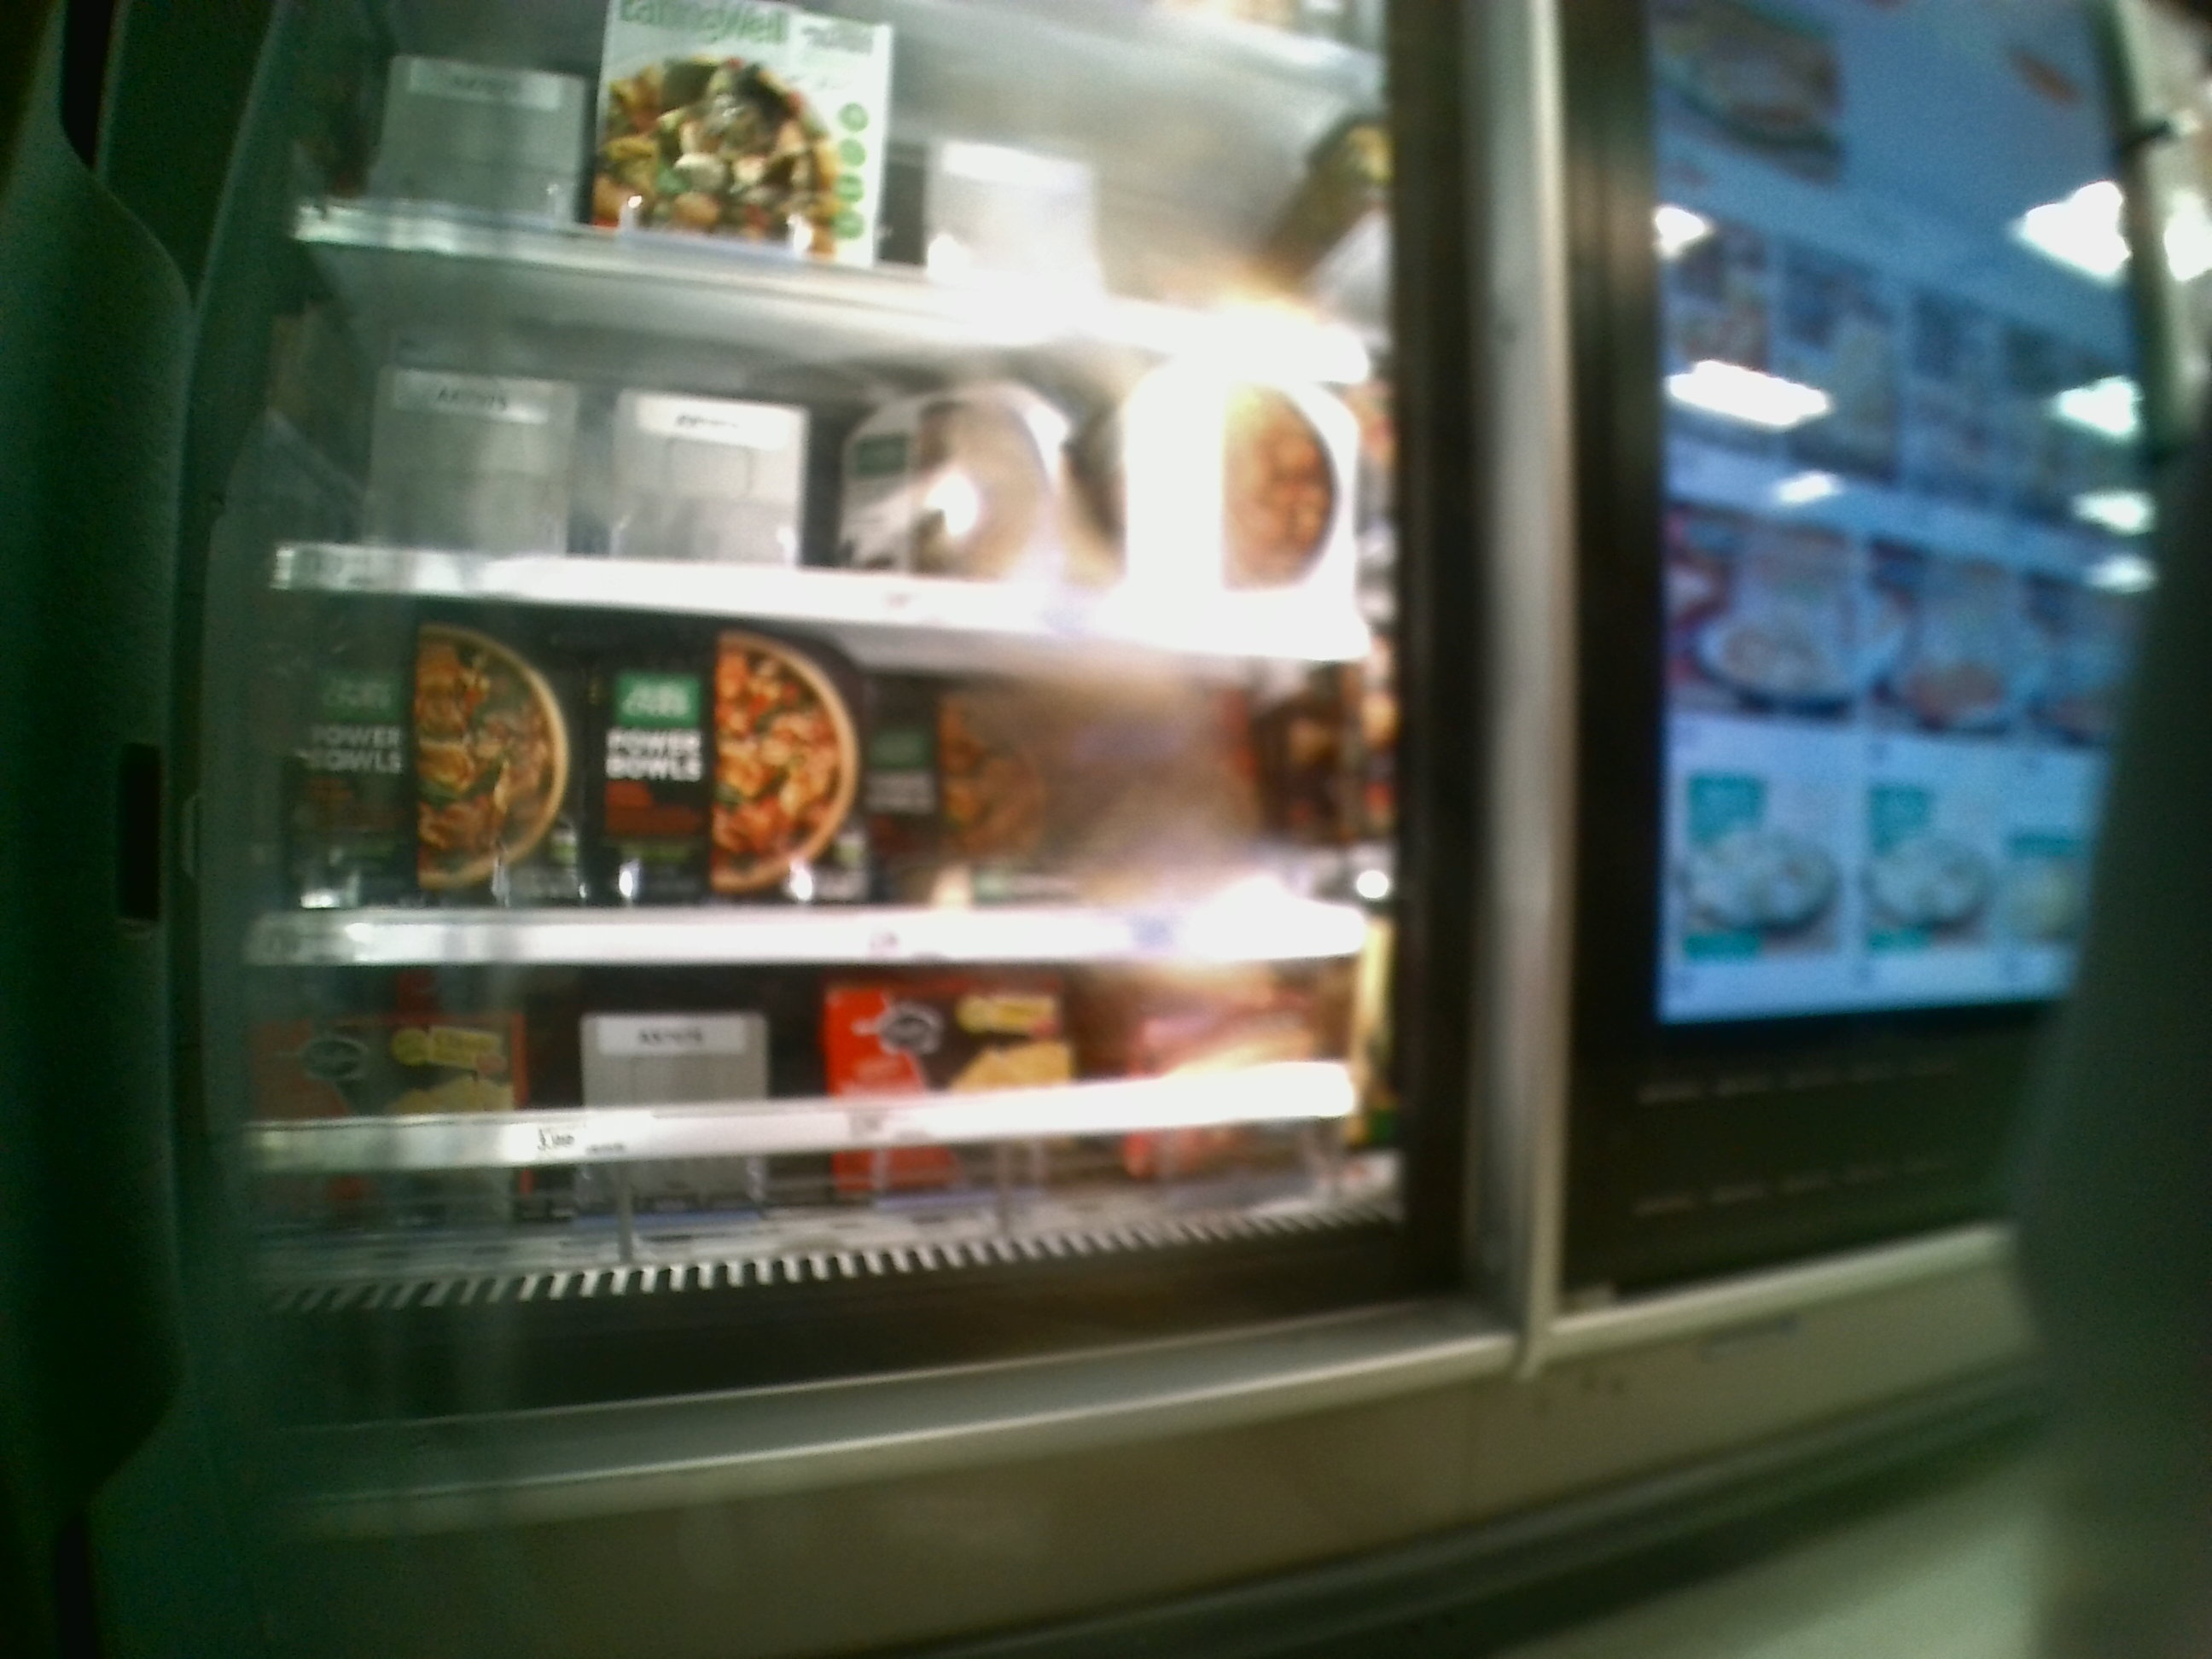shelf: (244, 575, 1388, 967), (240, 950, 1395, 1337)
